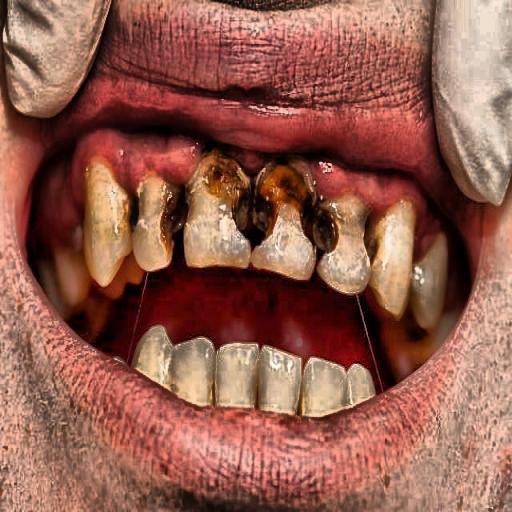Caries: (217, 140, 368, 258), (100, 169, 208, 247)
